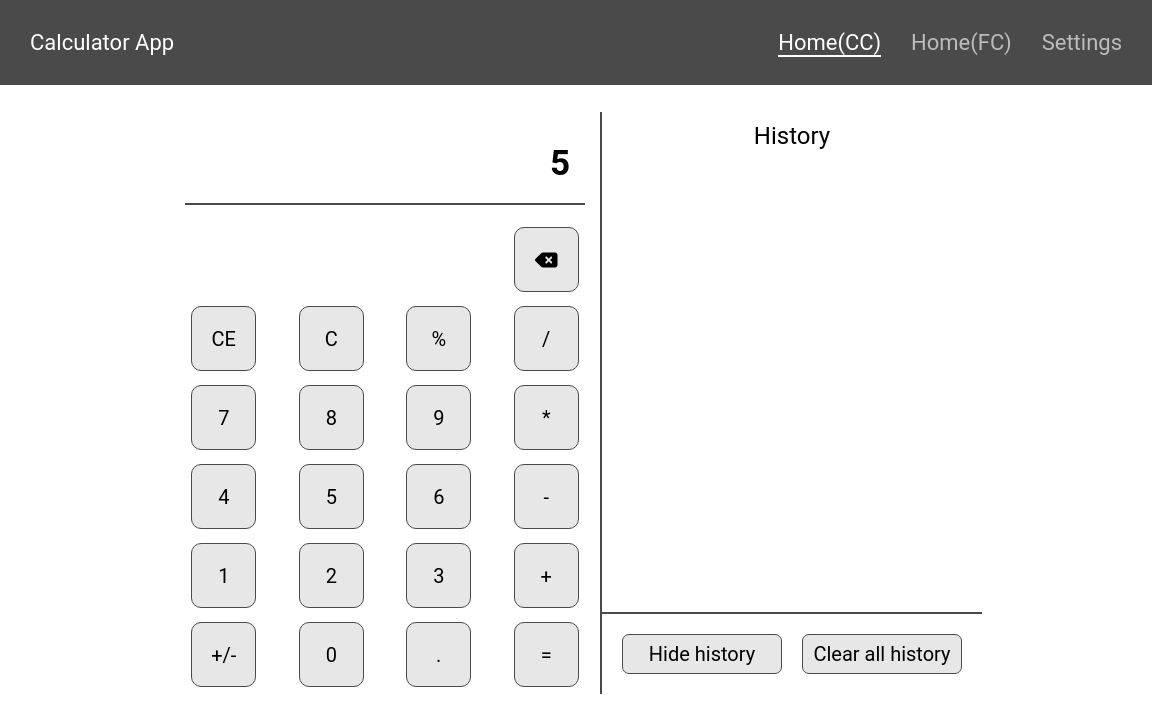
Test: Home CC E2E › should display expression and clear input after enter of operation
Click the text with test id "btn+" at (547, 576), box [514,543,579,608]
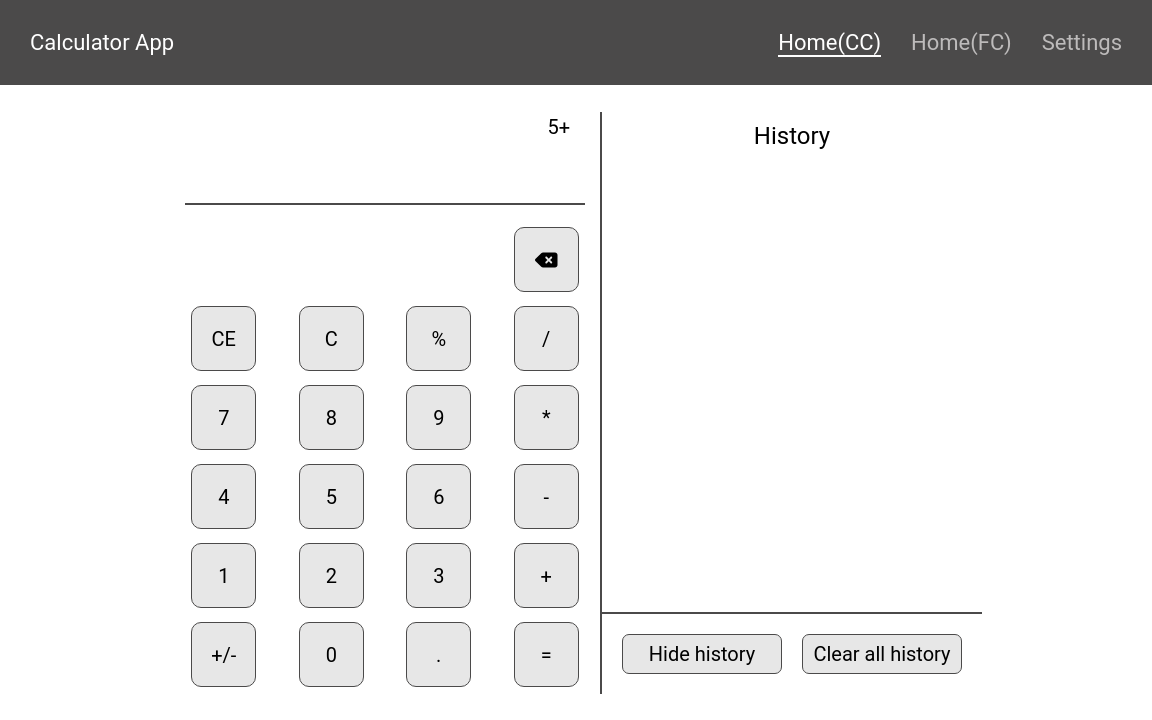
Expected: the text with test id "displayExpr" reads "5+", [547,115,570,138]
